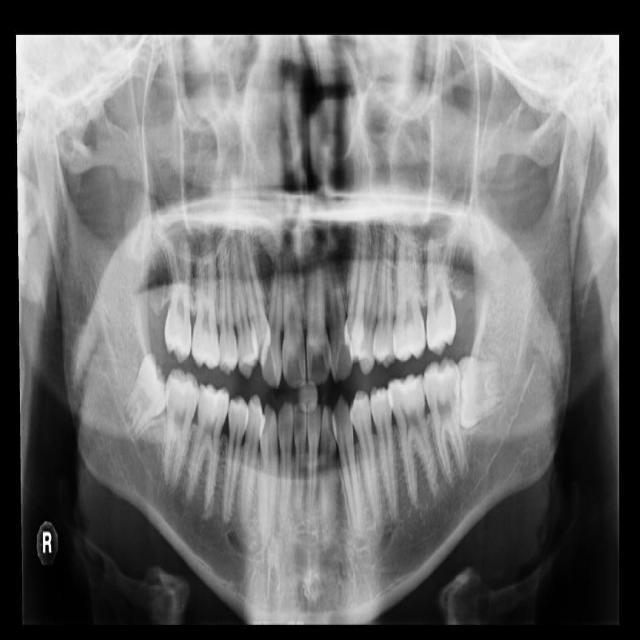73: (596, 604, 600, 610)
BioHorizons Implant: (424, 220, 459, 357)
Biomet 3i Implant: (455, 356, 503, 431)
Blue Sky Bio Implant: (420, 355, 468, 488)
Caries: (162, 234, 195, 365)
Implant: (156, 367, 201, 493)
Keystone Dental Implant: (115, 351, 183, 446)
